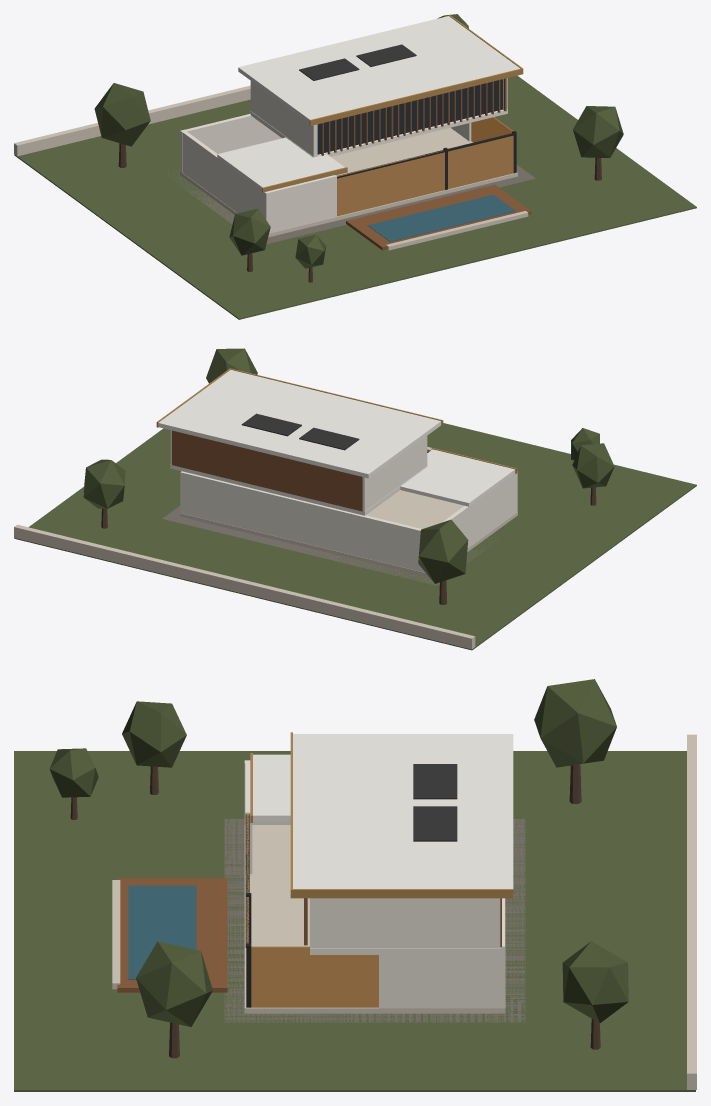
The model's file is residential.glb.
3 views of the same model, one above another, from view 1: azimuth 30°, elevation 25°; view 2: azimuth 150°, elevation 25°; view 3: azimuth 270°, elevation 25° (orthographic). The views are drawn at different scales.
Parts seen in each view (by area): view 1: site-grass, roof-white, frame_L0-render, facade_L0-glass-warm, site-foliage, facade_L1-glass, frame_L0-stone, site-stone, roof_L0-white, frame_L1-render, facade_L1-timber, site-water (+7 smaller); view 2: site-grass, roof-white, frame_L0-render, site-foliage, site-stone, facade_L1-timber, roof_L0-white, frame_L0-stone, frame_L1-render, foundation-concrete-dark, roof-cladding, roof-bronze; view 3: site-grass, roof-white, site-foliage, frame_L1-render, foundation-concrete-dark, frame_L0-stone, frame_L0-render, facade_L0-glass-warm, site-timber, site-water, site-stone, roof-cladding (+3 smaller).
Part boxes in pixels (x1,y1,x2,y2): site-grass: (14, 75, 696, 319); roof-white: (238, 16, 520, 123); frame_L0-render: (180, 113, 471, 233); facade_L0-glass-warm: (337, 117, 513, 216); site-foliage: (94, 14, 623, 268); facade_L1-glass: (317, 79, 503, 154); frame_L0-stone: (180, 127, 517, 237); site-stone: (14, 85, 528, 250); roof_L0-white: (217, 137, 344, 190); frame_L1-render: (250, 78, 507, 157); facade_L1-timber: (321, 78, 506, 155); site-water: (368, 194, 515, 241); site-grass: (14, 423, 696, 650); roof-white: (158, 370, 441, 478); frame_L0-render: (180, 471, 517, 572); site-foliage: (83, 348, 614, 583); site-stone: (14, 447, 475, 649); facade_L1-timber: (172, 430, 362, 511); roof_L0-white: (400, 449, 515, 506); frame_L0-stone: (180, 490, 517, 577); frame_L1-render: (170, 430, 427, 515); foundation-concrete-dark: (162, 506, 497, 585); roof-cladding: (241, 413, 359, 450); roof-bronze: (156, 368, 443, 427); site-grass: (14, 751, 695, 1091); roof-white: (293, 734, 513, 888); site-foliage: (49, 679, 628, 1026); frame_L1-render: (310, 898, 500, 954); foundation-concrete-dark: (224, 819, 525, 1022); frame_L0-stone: (244, 825, 505, 1013); frame_L0-render: (244, 760, 504, 1008); facade_L0-glass-warm: (246, 814, 378, 1007); site-timber: (117, 878, 227, 992); site-water: (128, 885, 196, 979); site-stone: (112, 734, 696, 1089); roof-cladding: (413, 764, 457, 841).
Bounding box in the file's own units: 40 × 8.28 × 34.05.
